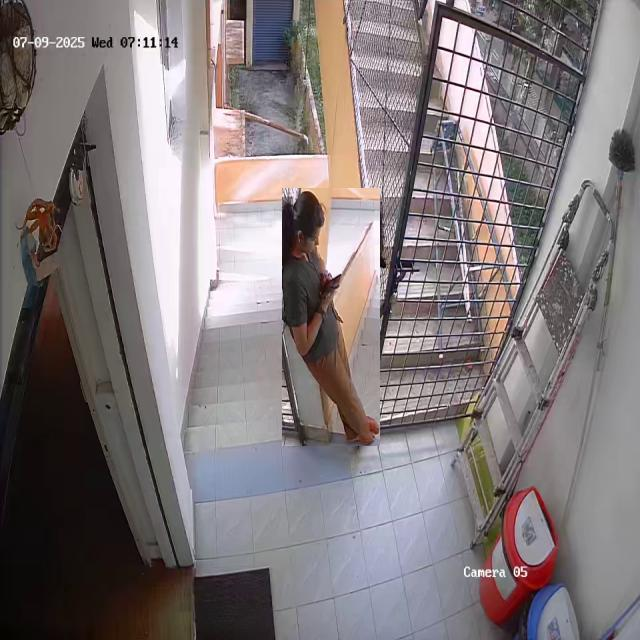person: (282, 188, 380, 446)
